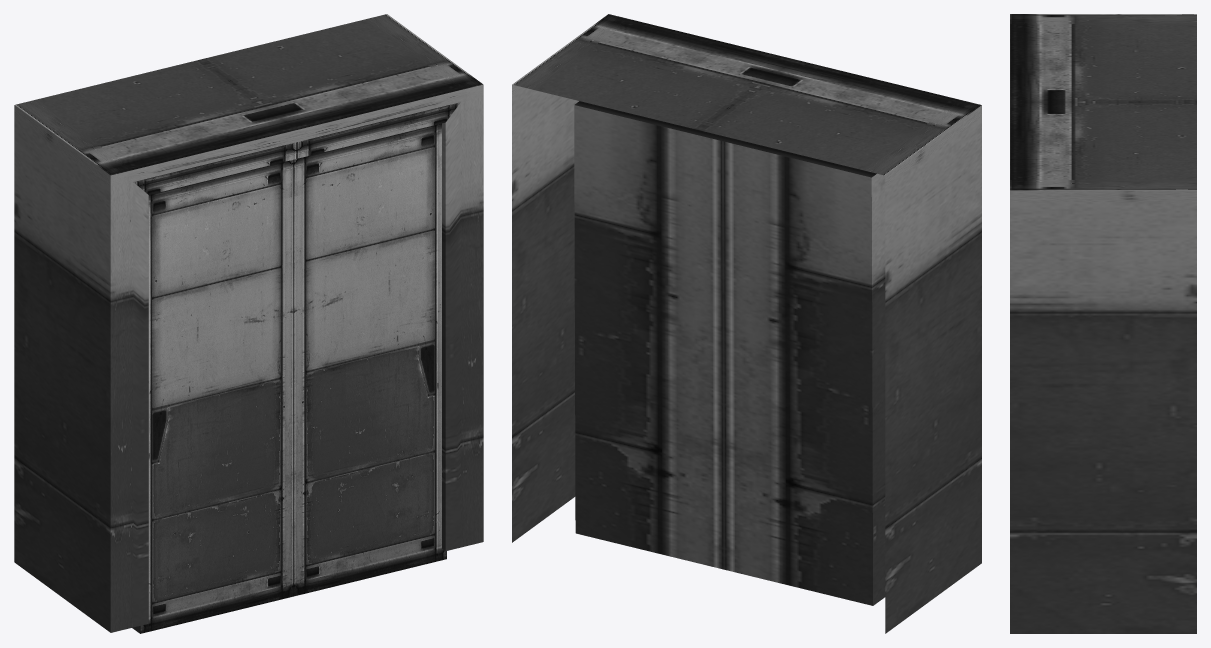
File: portaGanimada.fbx
3 views of the same model, side by side, from view 1: azimuth 30°, elevation 25°; view 2: azimuth 150°, elevation 25°; view 3: azimuth 270°, elevation 25° (orthographic). The views are drawn at different scales.
Parts seen in each view (by area): view 1: Cube.005, Cube.004; view 2: Cube.004; view 3: Cube.004.
Boxes of the visible parts, <box> form: Cube.005: <box>132,123,446,633</box>; Cube.004: <box>14,14,483,632</box>; Cube.004: <box>512,14,981,633</box>; Cube.004: <box>1010,14,1196,633</box>.
Bounding box in the file's own units: 2.75 × 3.31 × 1.23.
